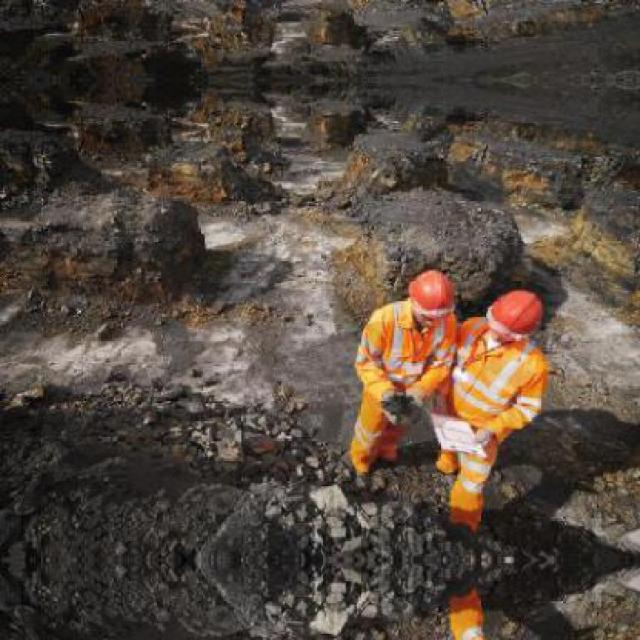Reflective-Jacket: (446, 323, 557, 445), (346, 297, 465, 409)
Safety-Helmet: (483, 283, 551, 343), (398, 263, 462, 320)
